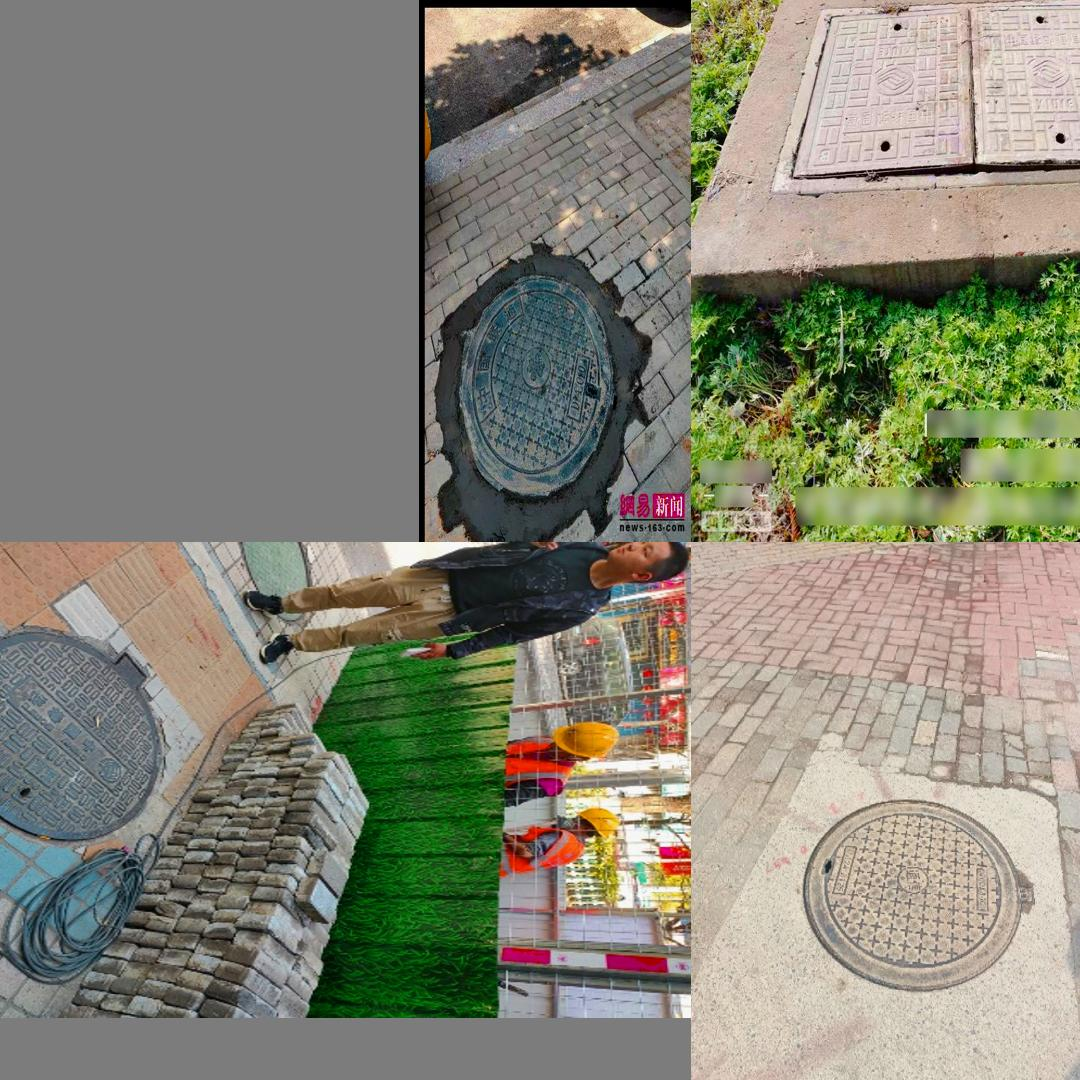good: (427, 236, 655, 534), (773, 0, 1080, 197), (803, 799, 1033, 991), (0, 629, 163, 844)
